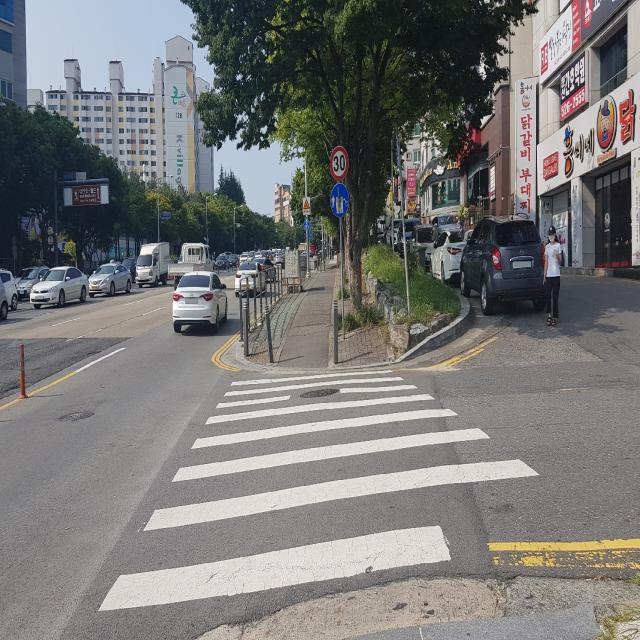횡단보도: (96, 365, 542, 617)
